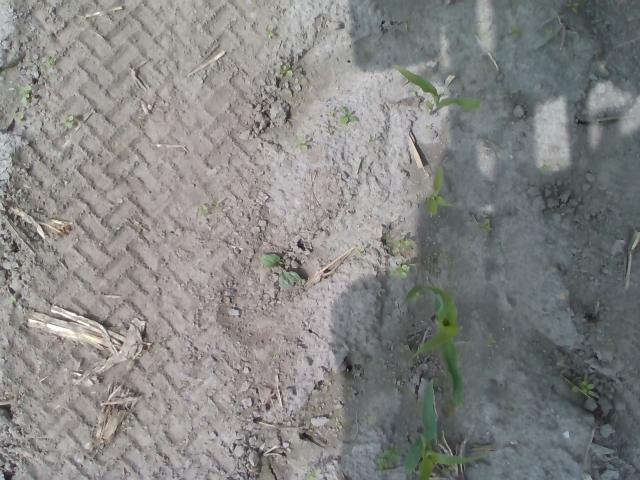Maize: (401, 286, 467, 410), (404, 381, 475, 480), (398, 66, 492, 115), (424, 165, 460, 218)
Weeds: (258, 254, 302, 288), (376, 448, 400, 469), (570, 380, 595, 396), (18, 82, 34, 104), (271, 63, 294, 78), (390, 264, 411, 280), (479, 216, 494, 237), (391, 238, 414, 250), (338, 114, 359, 126), (297, 136, 310, 152), (60, 115, 75, 128), (484, 335, 496, 350), (360, 414, 374, 424), (510, 25, 520, 39), (306, 471, 320, 480), (46, 55, 55, 66), (264, 32, 274, 39)
